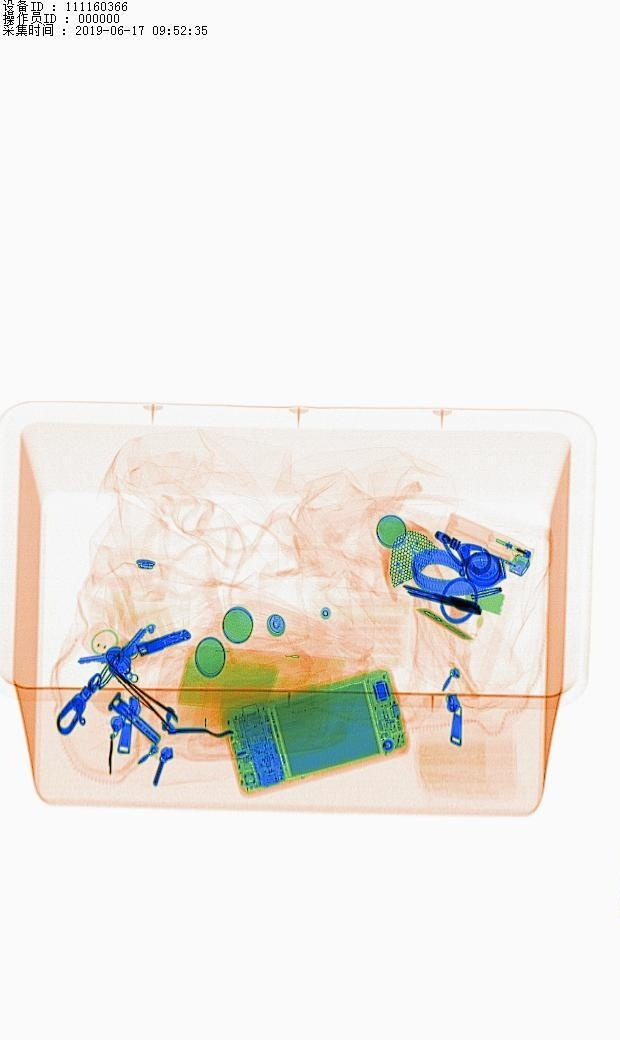NonmetallicFire: (427, 510, 586, 599)
